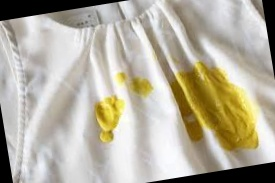mustard: (165, 58, 245, 157), (208, 86, 259, 157), (92, 94, 127, 147), (128, 71, 151, 96), (115, 69, 131, 86)
